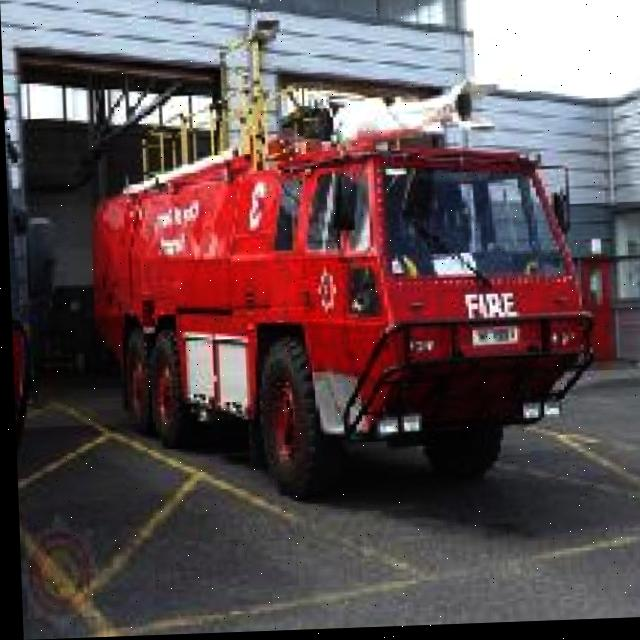emergency: (82, 110, 591, 499)
